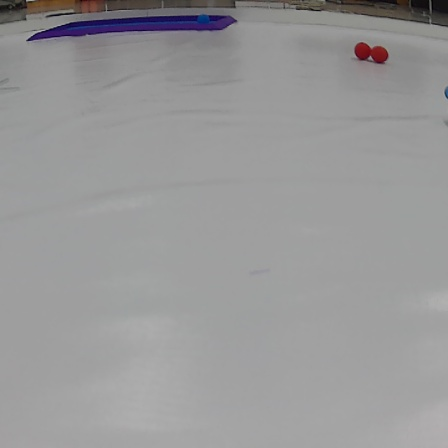blue: (197, 13, 215, 26)
blue_aim: (34, 14, 237, 34)
red: (370, 43, 390, 67), (352, 43, 369, 64)
